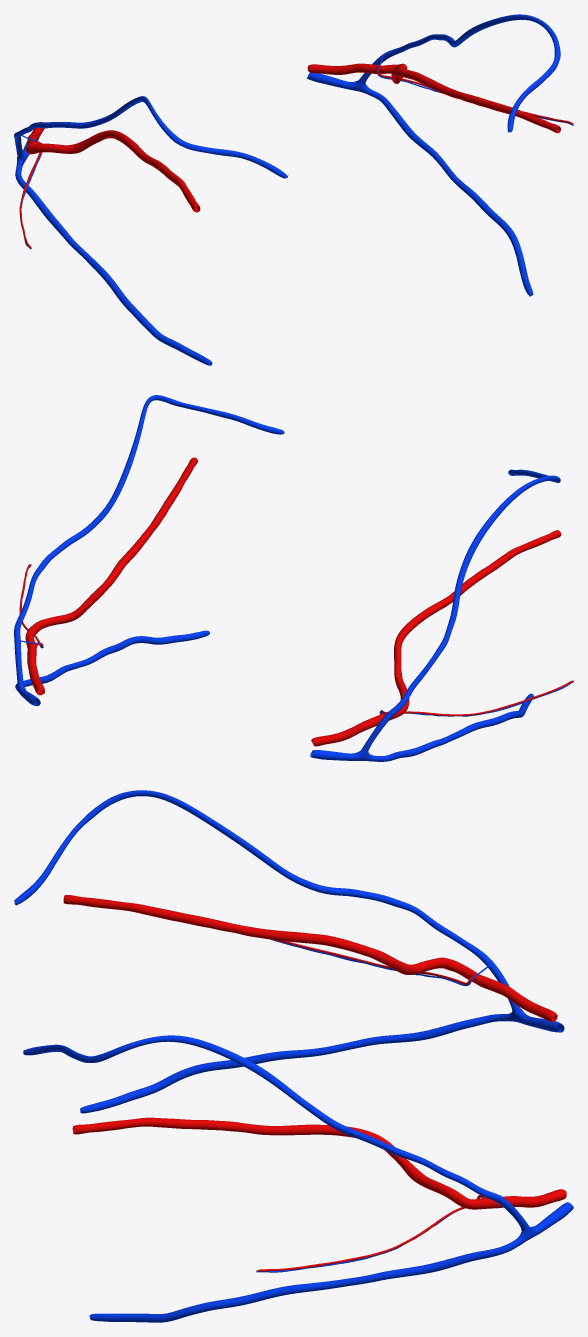
File: VH_M_Blood_Vasculature_Eye.glb
The picture shows the model from 3 angles, top to bottom: view 1: azimuth 30°, elevation 25°; view 2: azimuth 150°, elevation 25°; view 3: azimuth 270°, elevation 25°; orthographic projection. The views are drawn at different scales.
Parts seen in each view (by area): view 1: VH_M_opthalmic_artery_L, VH_M_inferior_ophthalmic_vein_R, VH_M_superior_ophthalmic_vein_R, VH_M_superior_ophthalmic_vein_L, VH_M_opthalmic_artery_R, VH_M_inferior_ophthalmic_vein_L, VH_M_ophthalmic_vein_L; view 2: VH_M_superior_ophthalmic_vein_L, VH_M_opthalmic_artery_R, VH_M_opthalmic_artery_L, VH_M_superior_ophthalmic_vein_R, VH_M_inferior_ophthalmic_vein_L, VH_M_inferior_ophthalmic_vein_R, VH_M_ophthalmic_vein_R; view 3: VH_M_opthalmic_artery_R, VH_M_opthalmic_artery_L, VH_M_superior_ophthalmic_vein_R, VH_M_superior_ophthalmic_vein_L, VH_M_inferior_ophthalmic_vein_L, VH_M_inferior_ophthalmic_vein_R, VH_M_ophthalmic_vein_L.
Part boxes in pixels (x1,y1,x2,y2): VH_M_opthalmic_artery_L: (307,63,560,132); VH_M_inferior_ophthalmic_vein_R: (15,165,212,365); VH_M_superior_ophthalmic_vein_R: (14,96,288,178); VH_M_superior_ophthalmic_vein_L: (357,14,560,132); VH_M_opthalmic_artery_R: (25,122,200,212); VH_M_inferior_ophthalmic_vein_L: (365,89,533,296); VH_M_ophthalmic_vein_L: (307,72,369,93); VH_M_superior_ophthalmic_vein_L: (14,395,284,684); VH_M_opthalmic_artery_R: (311,530,561,746); VH_M_opthalmic_artery_L: (25,457,197,694); VH_M_superior_ophthalmic_vein_R: (360,469,560,752); VH_M_inferior_ophthalmic_vein_L: (15,630,209,688); VH_M_inferior_ophthalmic_vein_R: (372,693,533,761); VH_M_ophthalmic_vein_R: (310,750,373,761); VH_M_opthalmic_artery_R: (63,895,557,1021); VH_M_opthalmic_artery_L: (73,1117,566,1209); VH_M_superior_ophthalmic_vein_R: (14,790,521,1013); VH_M_superior_ophthalmic_vein_L: (23,1035,530,1231); VH_M_inferior_ophthalmic_vein_L: (89,1238,520,1322); VH_M_inferior_ophthalmic_vein_R: (80,1013,510,1113); VH_M_ophthalmic_vein_L: (518,1202,573,1244).
Size of the model in its own units: 0.0757 by 0.0348 by 0.0554.
